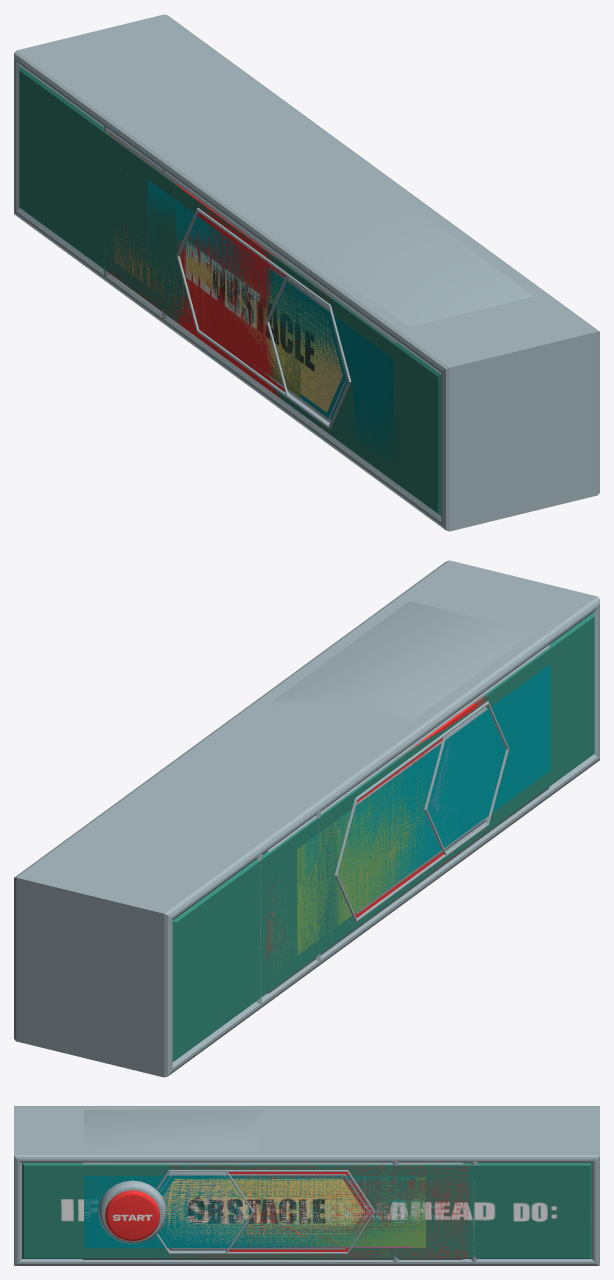
Rendered from Blocks_BlockProgramming.fbx.
3 views of the same model, one above another, from view 1: azimuth 30°, elevation 25°; view 2: azimuth 150°, elevation 25°; view 3: azimuth 270°, elevation 25° (orthographic). The views are drawn at different scales.
Parts seen in each view (by area): view 1: CONTROL_IF, CONTROL_FOR_REPEAT, MainBlock, Condition_for_If, ActionBlock_GetHumidity, ActionBlock_Forward, Numbers; view 2: CONTROL_IF, MainBlock, CONTROL_FOR_REPEAT, ActionBlock_Forward, ActionBlock_Turn_Empty, Condition_for_If, ActionBlock_GetHumidity; view 3: CONTROL_IF, MainBlock, CONTROL_FOR_REPEAT, Condition_for_If, ActionBlock_Forward, Numbers, ActionBlock_Turn_Empty, ActionBlock_GetHumidity.
Boxes of the visible parts, left/top/right/bottom form: CONTROL_IF: left=14, top=14, right=599, bottom=531; CONTROL_FOR_REPEAT: left=103, top=80, right=482, bottom=443; MainBlock: left=147, top=160, right=534, bottom=484; Condition_for_If: left=186, top=244, right=347, bottom=422; ActionBlock_GetHumidity: left=114, top=135, right=301, bottom=414; ActionBlock_Forward: left=141, top=155, right=338, bottom=415; Numbers: left=271, top=280, right=342, bottom=422; CONTROL_IF: left=14, top=560, right=599, bottom=1077; MainBlock: left=269, top=601, right=550, bottom=927; CONTROL_FOR_REPEAT: left=106, top=645, right=488, bottom=1007; ActionBlock_Forward: left=295, top=681, right=455, bottom=973; ActionBlock_Turn_Empty: left=164, top=758, right=331, bottom=961; Condition_for_If: left=338, top=707, right=486, bottom=914; ActionBlock_GetHumidity: left=267, top=713, right=455, bottom=993; CONTROL_IF: left=14, top=1106, right=599, bottom=1265; MainBlock: left=82, top=1110, right=416, bottom=1259; CONTROL_FOR_REPEAT: left=169, top=1106, right=478, bottom=1265; Condition_for_If: left=159, top=1172, right=369, bottom=1250; ActionBlock_Forward: left=209, top=1162, right=425, bottom=1259; Numbers: left=162, top=1172, right=247, bottom=1250; ActionBlock_Turn_Empty: left=379, top=1106, right=399, bottom=1265; ActionBlock_GetHumidity: left=211, top=1162, right=463, bottom=1259.
Bounding box in the file's own units: 480 × 113 × 100.
